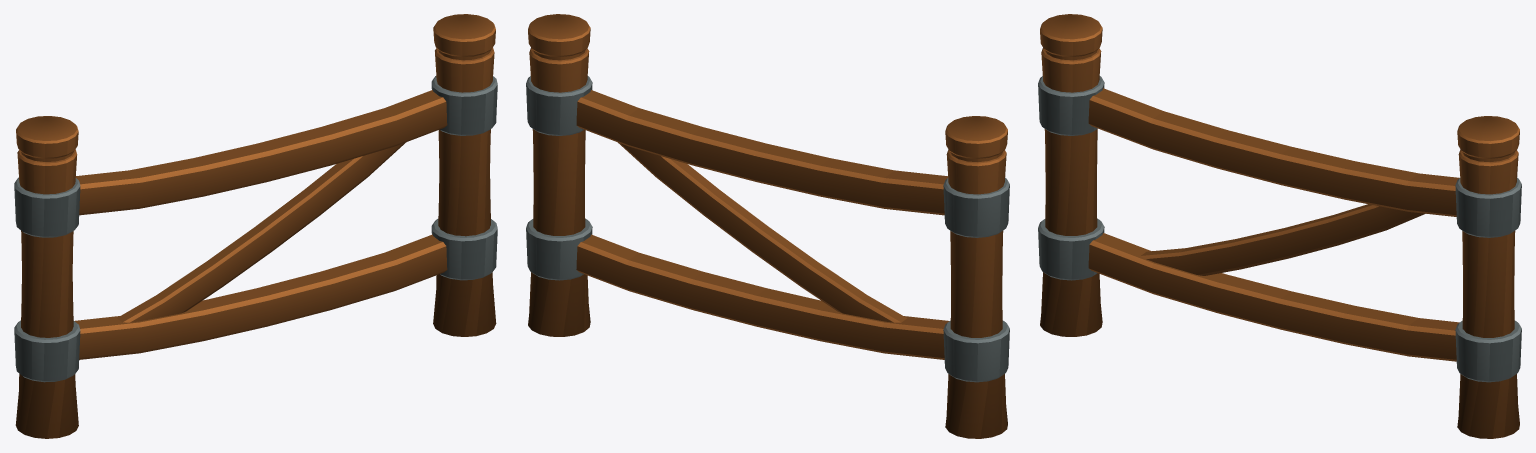
Rendered from Fence-4-1.fbx.
3 renders of one model, left to right at view 1: azimuth 30°, elevation 25°; view 2: azimuth 150°, elevation 25°; view 3: azimuth 330°, elevation 25°, orthographic.
Visible parts, largest first — view 1: Fence-4-1; view 2: Fence-4-1; view 3: Fence-4-1.
Part boxes in pixels (x1=…): Fence-4-1: x1=14, y1=14, x2=497, y2=438; Fence-4-1: x1=526, y1=14, x2=1009, y2=438; Fence-4-1: x1=1038, y1=14, x2=1521, y2=438.
Size of the model in its own units: 254 by 158 by 30.38.
